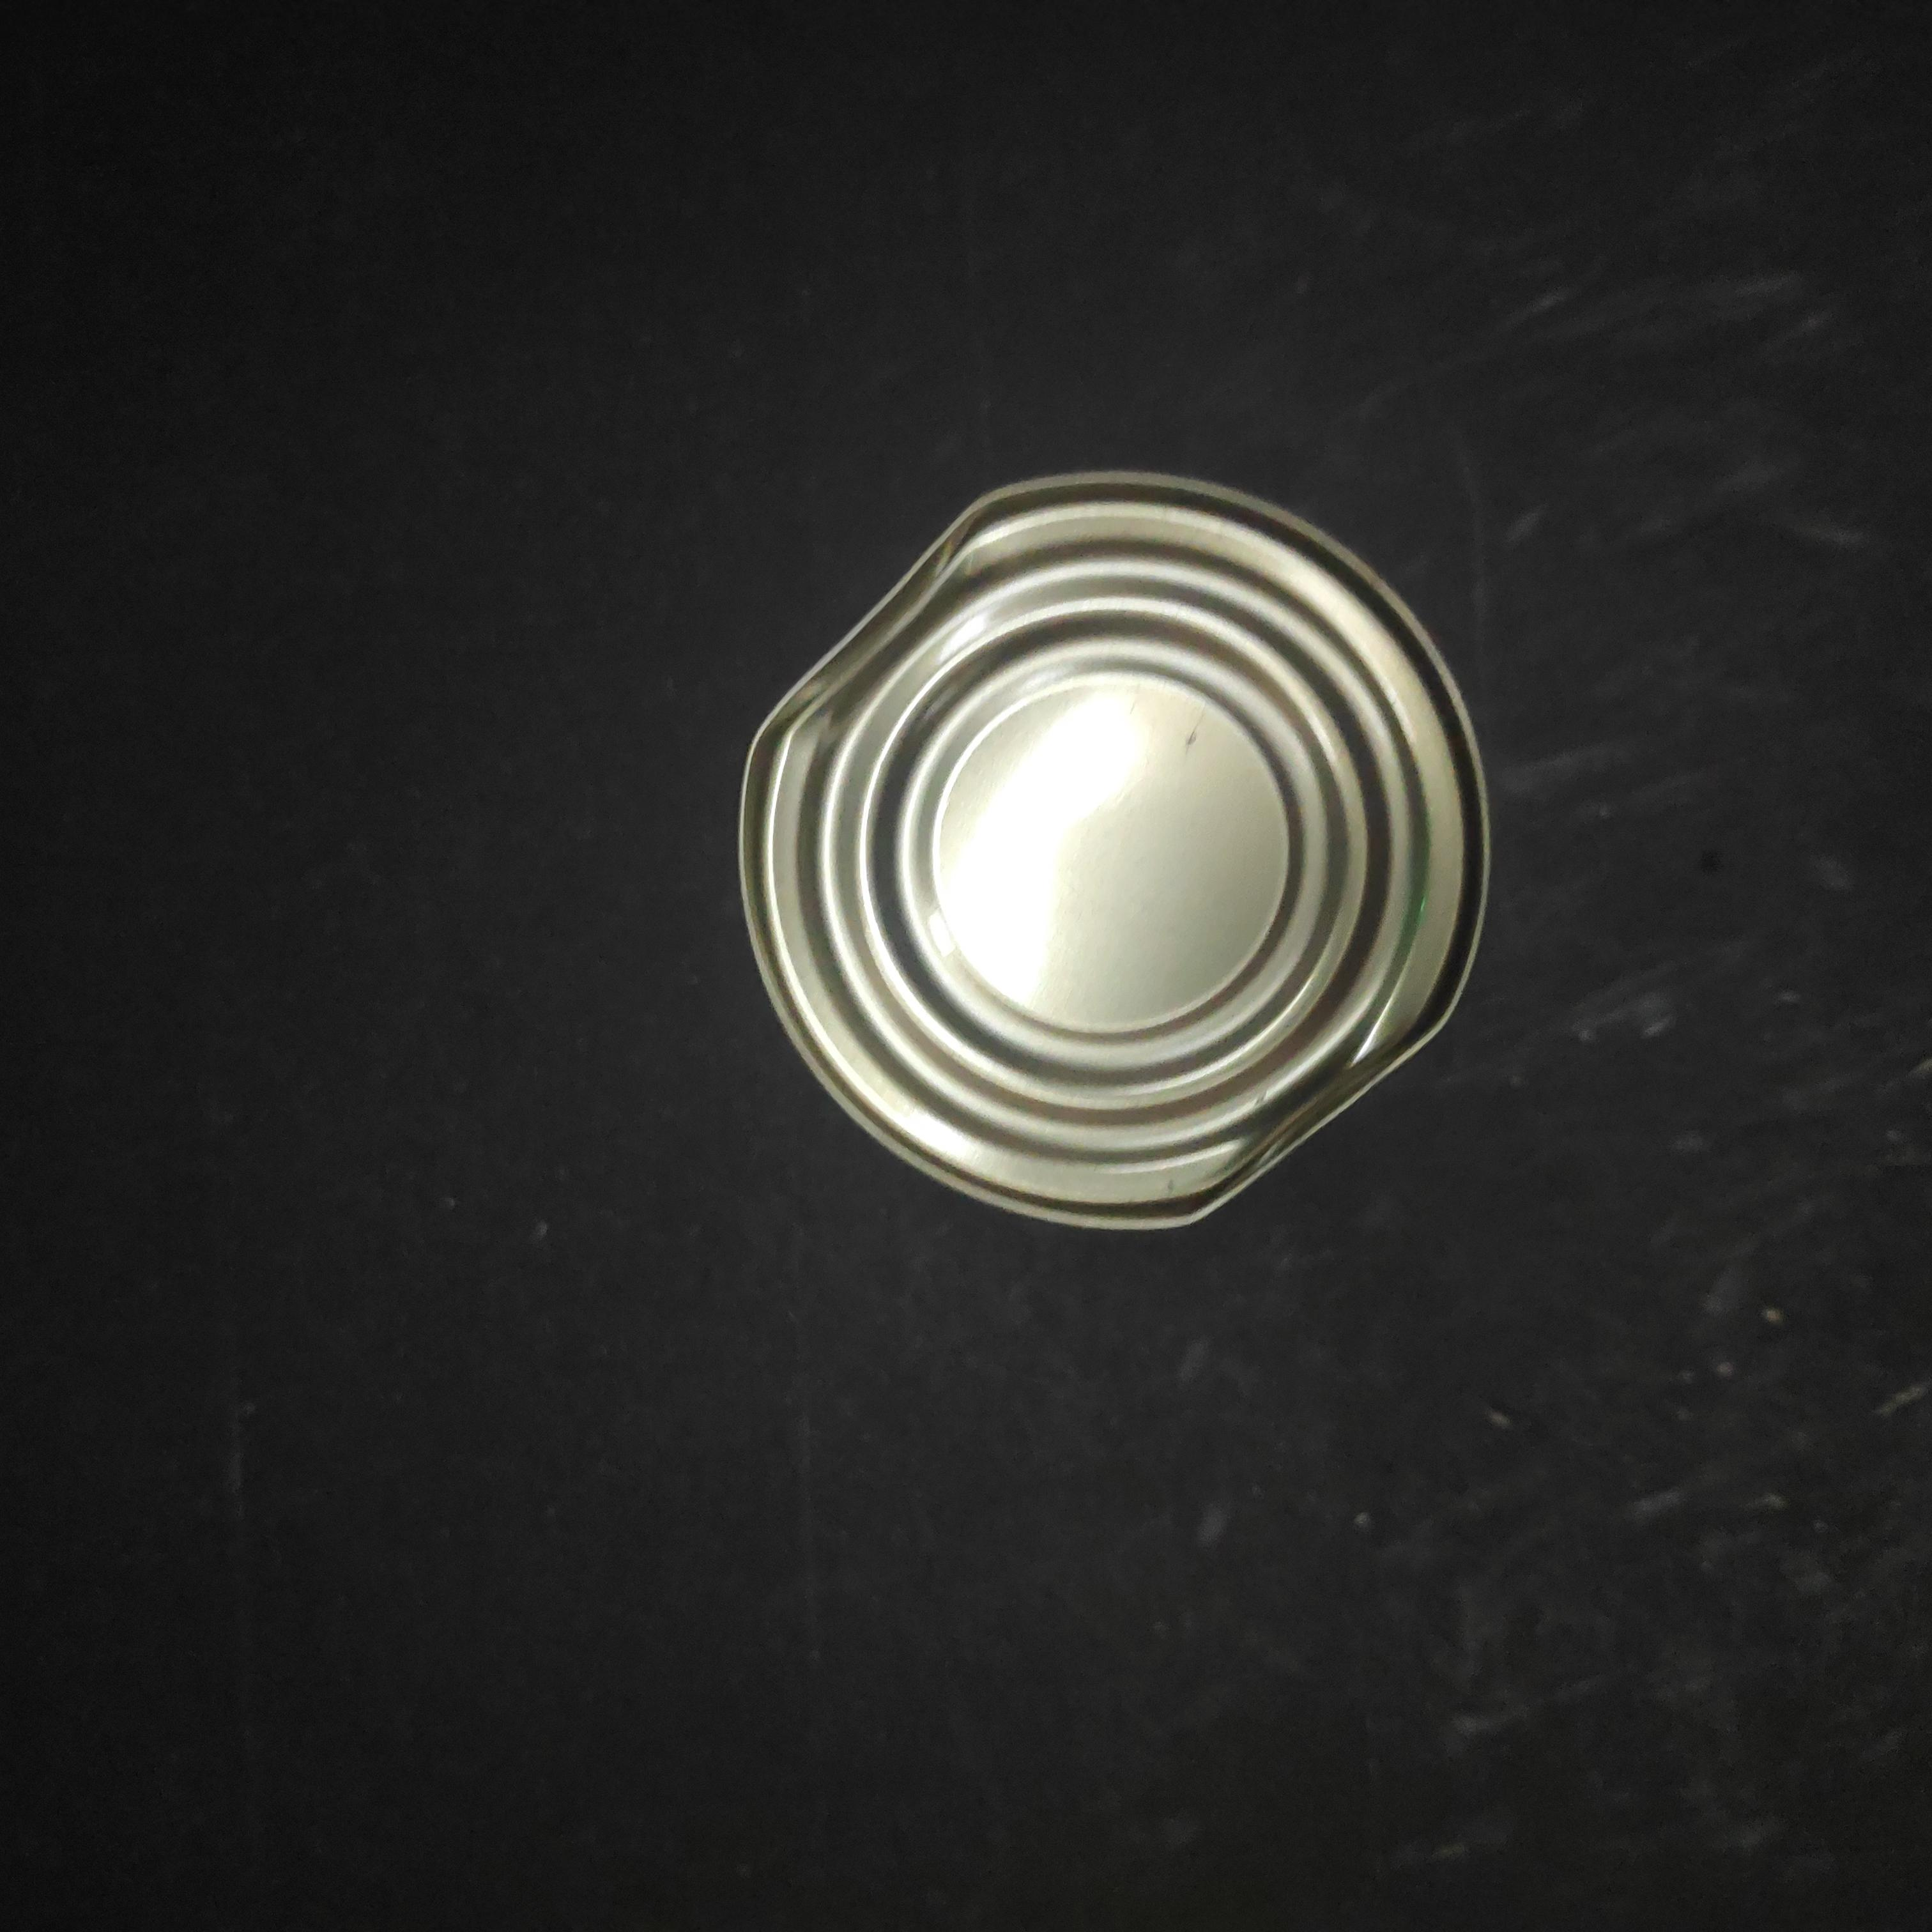Minor Defect: (432, 681, 1219, 1488)
